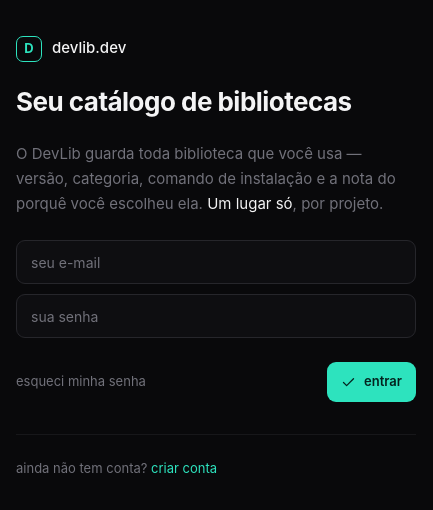
Test: LoginPage › mostra a mensagem de erro da API quando o login falha
Type "ana@example.com" into the field named "email".
click(216, 262); type("ana@example.com")  # box 16,240 -> 416,284
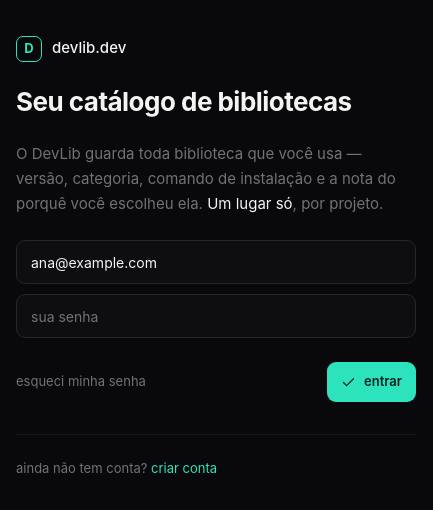
Type "senha-errada" into the password field labelled "sua senha".
click(216, 316); type("senha-errada")  # box 16,294 -> 416,338
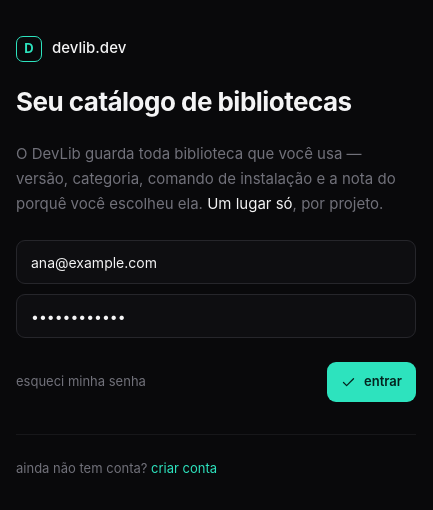
Click the button "entrar".
click(372, 382)  # box 327,362 -> 416,402
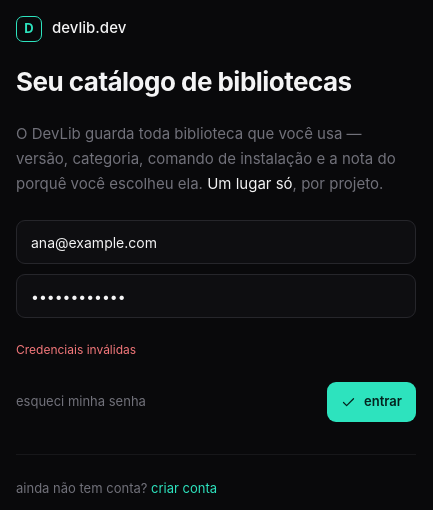
Now the text "Credenciais inválidas" is shown, box 16,342 -> 136,357
